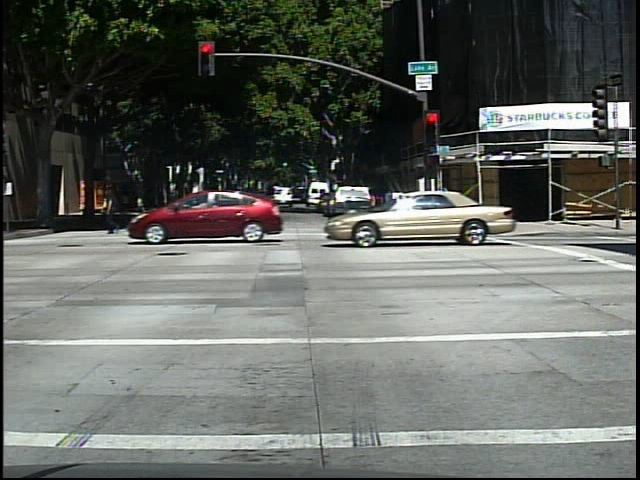person: (97, 184, 125, 236)
